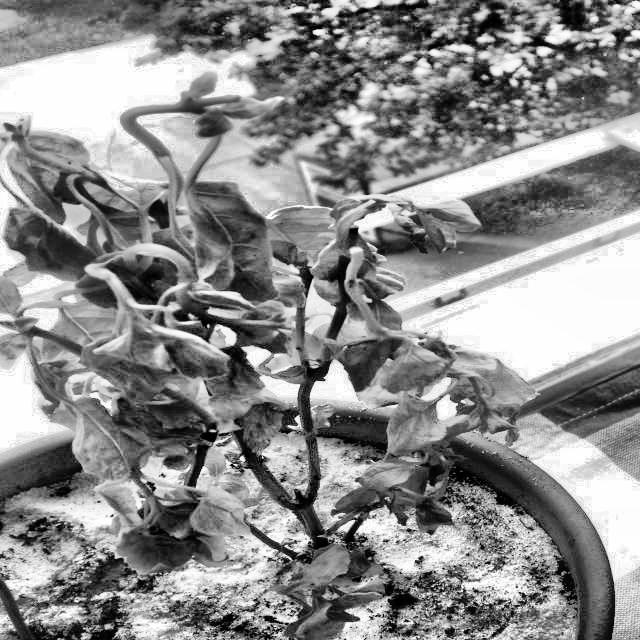plants: (0, 78, 557, 639)
